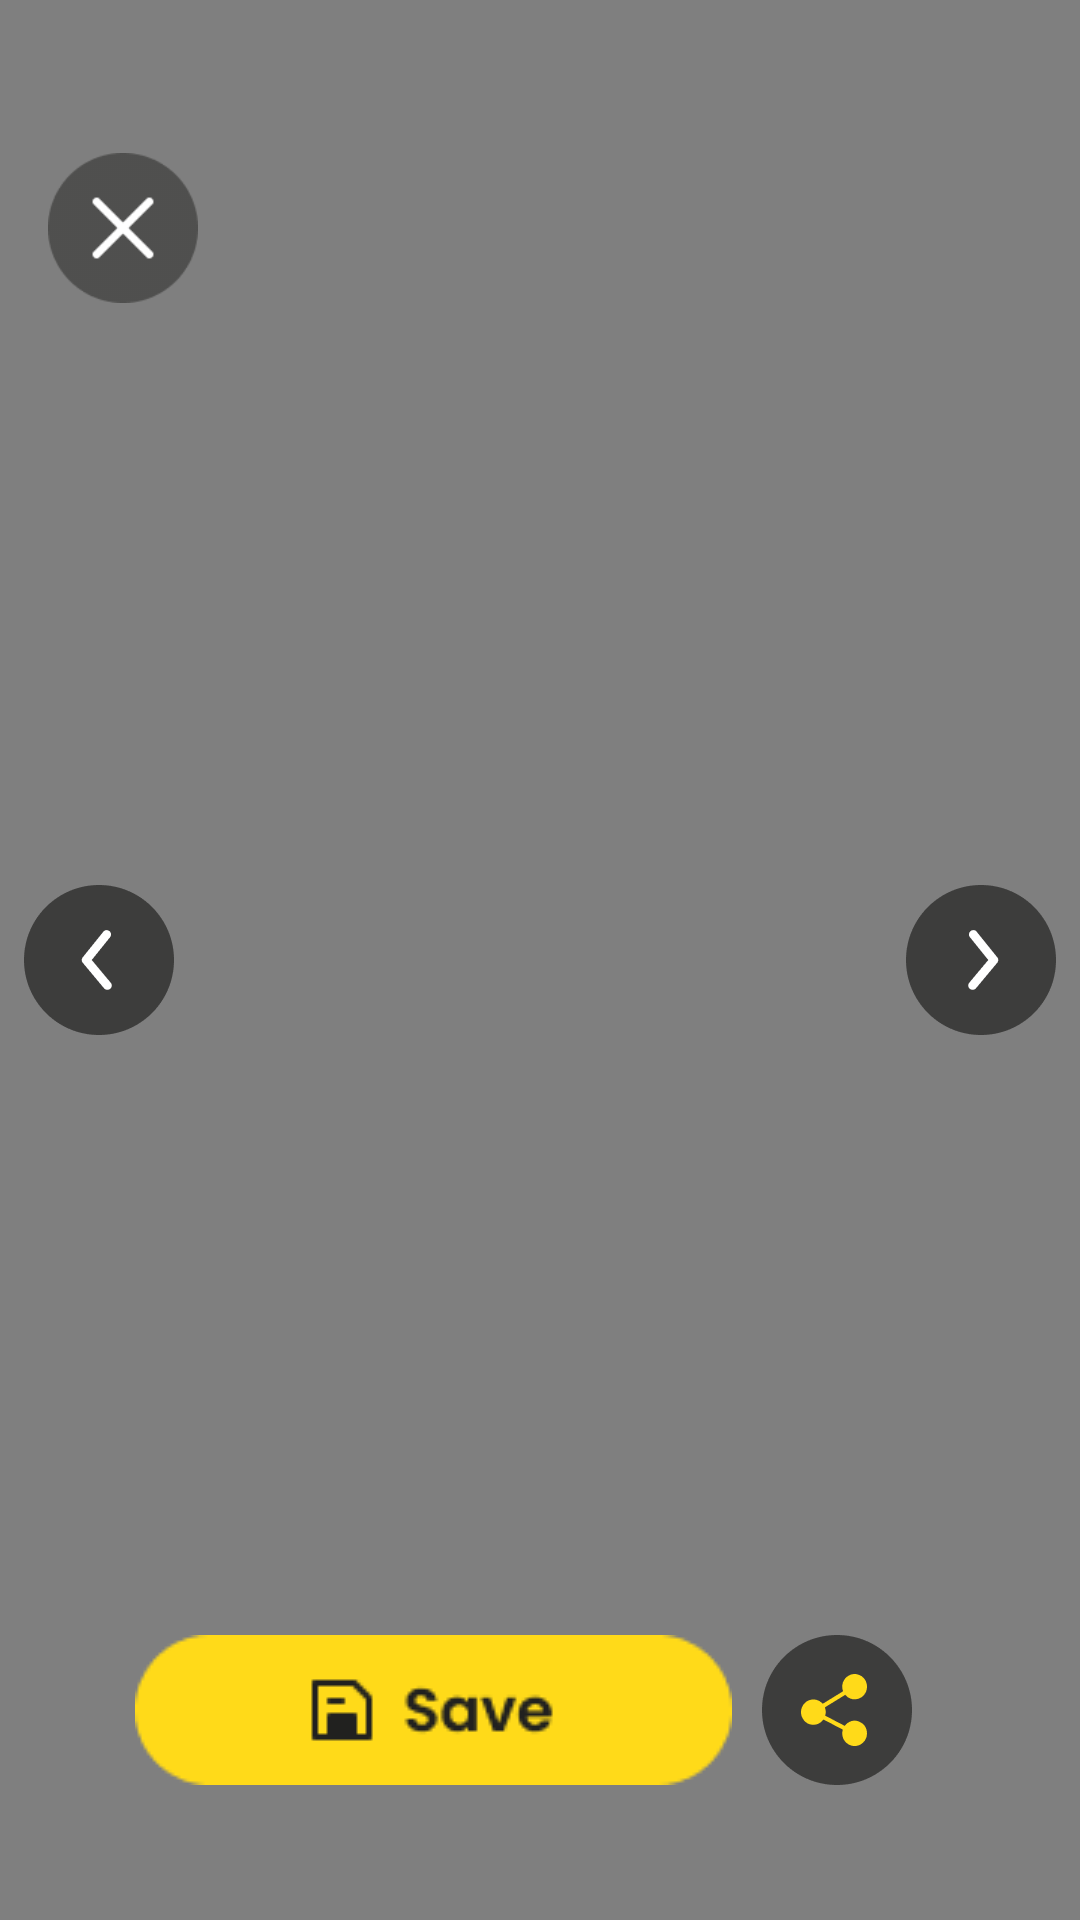

Icon click points for this 1080 × 1920 phone screenshot, format [x,y]:
close: [123,228]
left arrow: [99,960]
right arrow: [981,960]
share: [837,1710]
